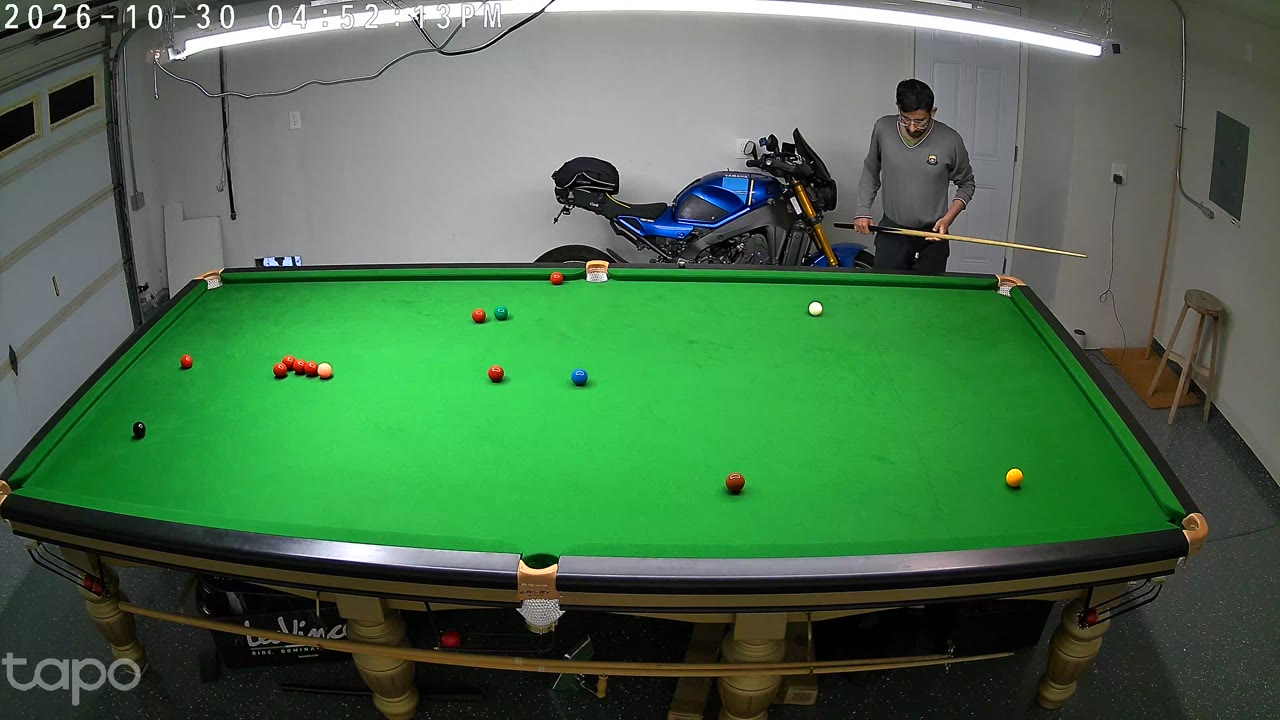black: (133, 420, 146, 441)
blue: (572, 367, 588, 389)
brown: (726, 471, 744, 496)
green: (495, 304, 507, 322)
pink: (319, 361, 331, 381)
red: (489, 364, 503, 384), (472, 307, 485, 326), (274, 361, 286, 381), (181, 353, 193, 371), (550, 271, 562, 288), (284, 354, 295, 372), (305, 360, 316, 378), (295, 358, 305, 376)
white: (809, 300, 822, 318)
yellow: (1006, 467, 1022, 489)
